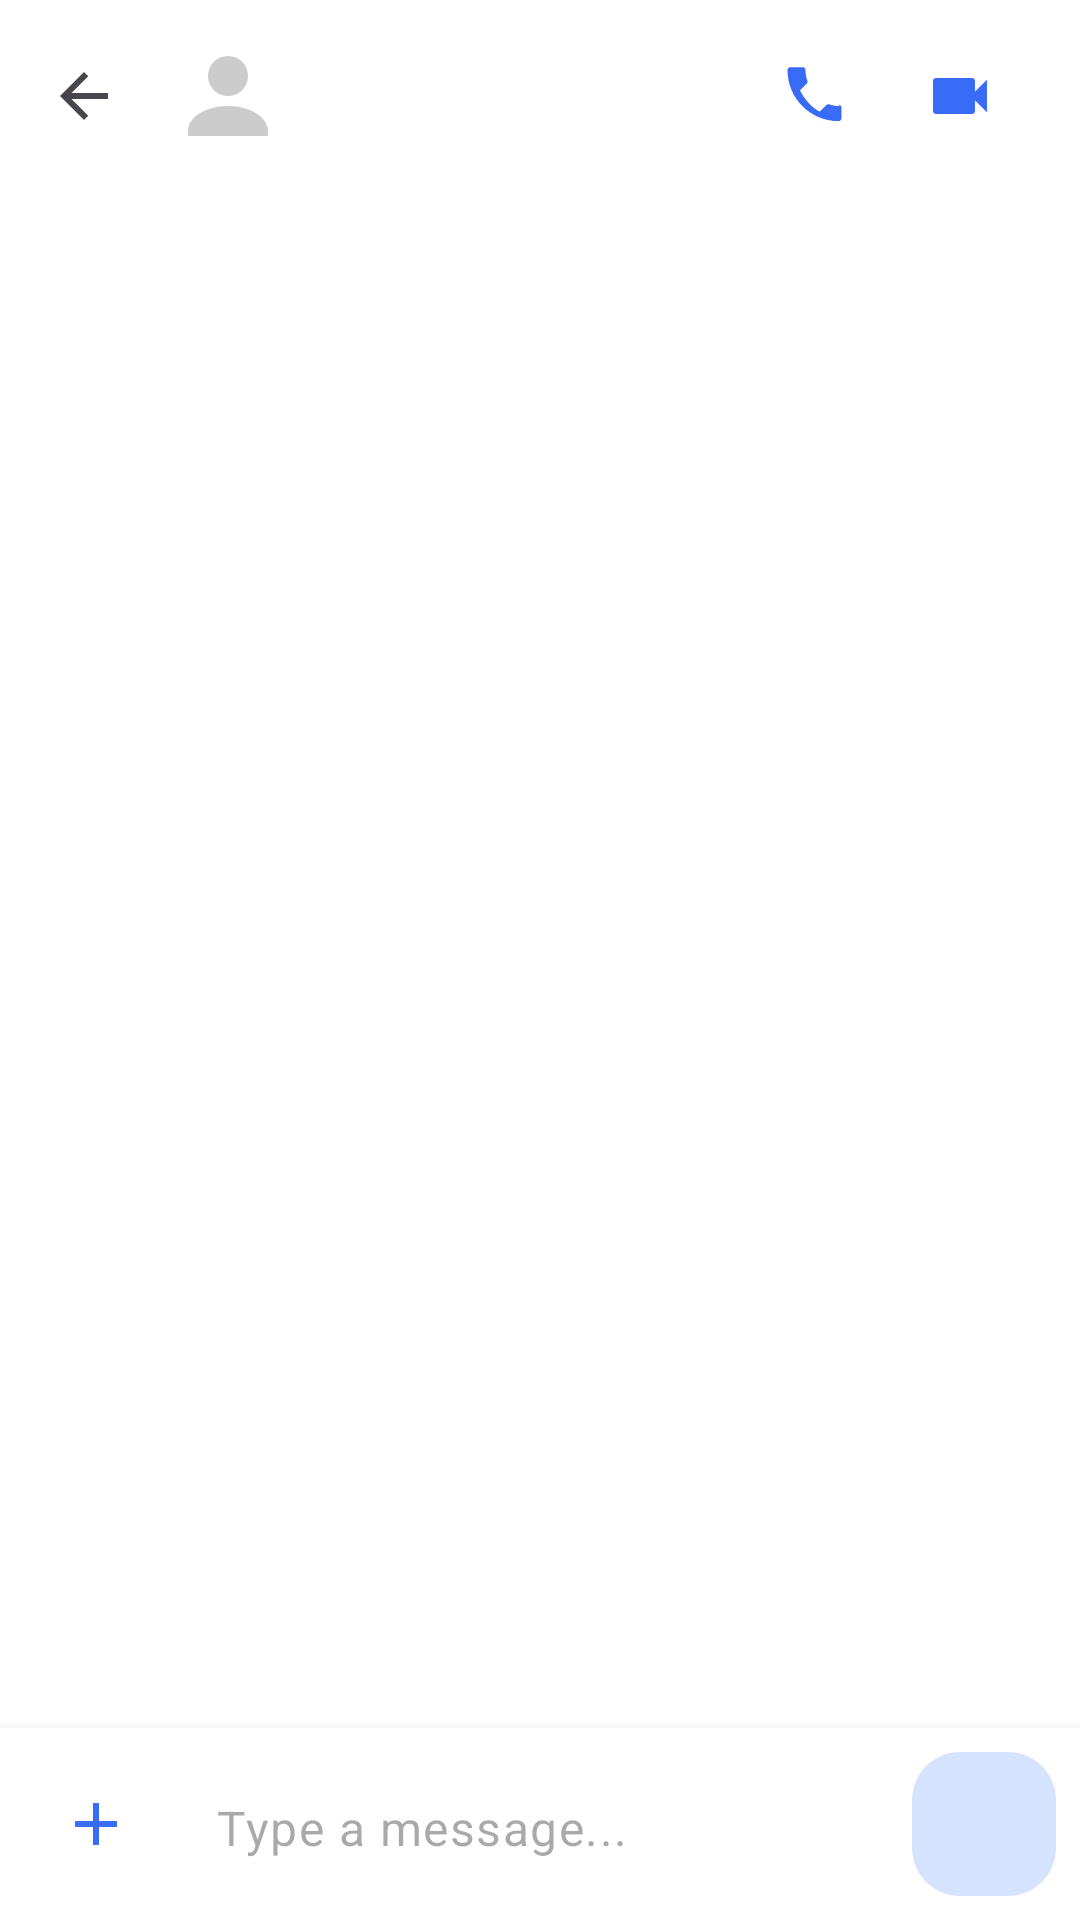

Where to tap for icons on this 1080 × 1920 app screen, as (x,y):
add: (96,1824)
Audio Call: (814,94)
Video Call: (960,96)
